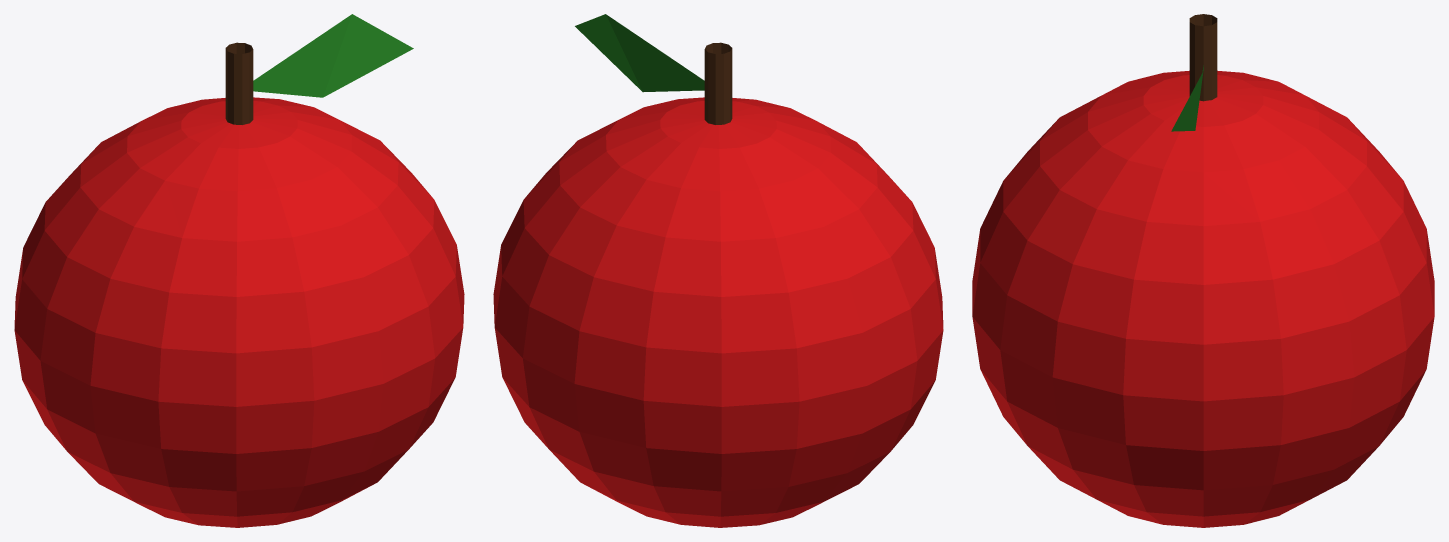
File: apple.obj
3 renders of one model, left to right at view 1: azimuth 30°, elevation 25°; view 2: azimuth 150°, elevation 25°; view 3: azimuth 270°, elevation 25°, orthographic. The views are drawn at different scales.
Parts seen in each view (by area): view 1: apple_body, leaf, stem; view 2: apple_body, leaf, stem; view 3: apple_body, stem, leaf.
Part boxes in pixels (x1=…): apple_body: x1=14, y1=97, x2=464, y2=527; leaf: x1=253, y1=14, x2=413, y2=97; stem: x1=225, y1=42, x2=253, y2=124; apple_body: x1=493, y1=97, x2=943, y2=527; leaf: x1=575, y1=14, x2=704, y2=92; stem: x1=704, y1=42, x2=732, y2=124; apple_body: x1=972, y1=70, x2=1434, y2=527; stem: x1=1189, y1=14, x2=1217, y2=101; leaf: x1=1171, y1=65, x2=1203, y2=131.
Bounding box in the file's own units: 0.6 × 0.67 × 0.5712.
